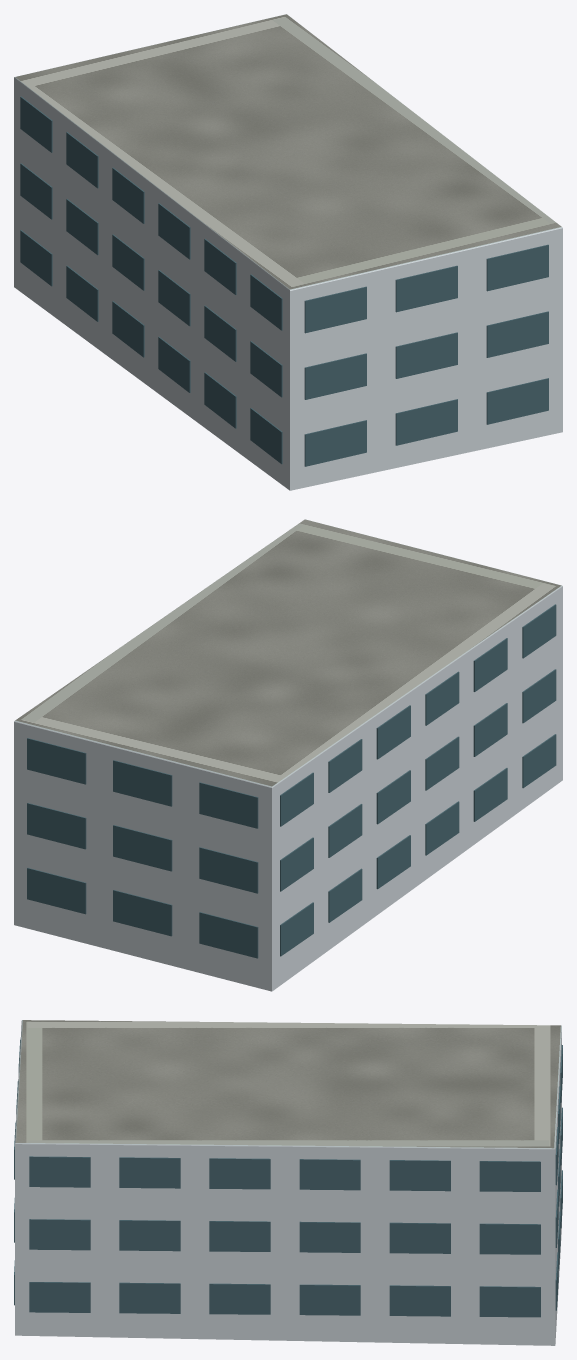
The model's file is fragments.glb.
3 renders of one model, top to bottom at view 1: azimuth 30°, elevation 25°; view 2: azimuth 150°, elevation 25°; view 3: azimuth 270°, elevation 25°, orthographic. The views are drawn at different scales.
Parts seen in each view (by area): view 1: SM_osm-468931854_Fragment_060, SM_osm-468931854_Fragment_033, SM_osm-468931854_Fragment_004, SM_osm-468931854_Fragment_013, SM_osm-468931854_Fragment_032, SM_osm-468931854_Fragment_027, SM_osm-468931854_Fragment_053, SM_osm-468931854_Fragment_024, SM_osm-468931854_Fragment_043, SM_osm-468931854_Fragment_059, SM_osm-468931854_Fragment_009, SM_osm-468931854_Fragment_006 (+27 smaller); view 2: SM_osm-468931854_Fragment_023, SM_osm-468931854_Fragment_004, SM_osm-468931854_Fragment_037, SM_osm-468931854_Fragment_001, SM_osm-468931854_Fragment_019, SM_osm-468931854_Fragment_025, SM_osm-468931854_Fragment_027, SM_osm-468931854_Fragment_044, SM_osm-468931854_Fragment_024, SM_osm-468931854_Fragment_043, SM_osm-468931854_Fragment_009, SM_osm-468931854_Fragment_006 (+25 smaller); view 3: SM_osm-468931854_Fragment_005, SM_osm-468931854_Fragment_001, SM_osm-468931854_Fragment_022, SM_osm-468931854_Fragment_040, SM_osm-468931854_Fragment_031, SM_osm-468931854_Fragment_049, SM_osm-468931854_Fragment_012, SM_osm-468931854_Fragment_015, SM_osm-468931854_Fragment_053, SM_osm-468931854_Fragment_054, SM_osm-468931854_Fragment_019, SM_osm-468931854_Fragment_030 (+22 smaller).
Boxes of the visible parts, <box> form: SM_osm-468931854_Fragment_060: <box>395,265,548,396</box>; SM_osm-468931854_Fragment_033: <box>250,324,372,433</box>; SM_osm-468931854_Fragment_004: <box>14,68,146,187</box>; SM_osm-468931854_Fragment_013: <box>250,239,366,333</box>; SM_osm-468931854_Fragment_032: <box>349,236,460,359</box>; SM_osm-468931854_Fragment_027: <box>66,119,165,262</box>; SM_osm-468931854_Fragment_053: <box>482,194,562,316</box>; SM_osm-468931854_Fragment_024: <box>135,161,272,259</box>; SM_osm-468931854_Fragment_043: <box>194,209,286,338</box>; SM_osm-468931854_Fragment_059: <box>258,402,386,490</box>; SM_osm-468931854_Fragment_009: <box>107,234,178,394</box>; SM_osm-468931854_Fragment_006: <box>204,336,282,466</box>; SM_osm-468931854_Fragment_023: <box>145,816,313,928</box>; SM_osm-468931854_Fragment_004: <box>199,722,344,855</box>; SM_osm-468931854_Fragment_037: <box>66,705,191,871</box>; SM_osm-468931854_Fragment_001: <box>14,698,95,849</box>; SM_osm-468931854_Fragment_019: <box>14,831,115,948</box>; SM_osm-468931854_Fragment_025: <box>113,724,236,828</box>; SM_osm-468931854_Fragment_027: <box>295,692,410,828</box>; SM_osm-468931854_Fragment_044: <box>195,894,315,991</box>; SM_osm-468931854_Fragment_024: <box>346,640,464,745</box>; SM_osm-468931854_Fragment_043: <box>422,611,530,717</box>; SM_osm-468931854_Fragment_009: <box>370,743,445,889</box>; SM_osm-468931854_Fragment_006: <box>473,682,556,823</box>; SM_osm-468931854_Fragment_005: <box>209,1111,360,1221</box>; SM_osm-468931854_Fragment_001: <box>461,1124,558,1267</box>; SM_osm-468931854_Fragment_022: <box>358,1103,494,1204</box>; SM_osm-468931854_Fragment_040: <box>97,1125,232,1224</box>; SM_osm-468931854_Fragment_031: <box>354,1204,498,1310</box>; SM_osm-468931854_Fragment_049: <box>192,1221,312,1340</box>; SM_osm-468931854_Fragment_012: <box>119,1220,231,1338</box>; SM_osm-468931854_Fragment_015: <box>15,1190,128,1291</box>; SM_osm-468931854_Fragment_053: <box>14,1108,102,1214</box>; SM_osm-468931854_Fragment_054: <box>344,1276,480,1344</box>; SM_osm-468931854_Fragment_019: <box>476,1232,558,1345</box>; SM_osm-468931854_Fragment_030: <box>261,1197,364,1284</box>.
Size of the model in its own units: 1.23 by 0.8737 by 2.2.
5 materials, 1 textured.
